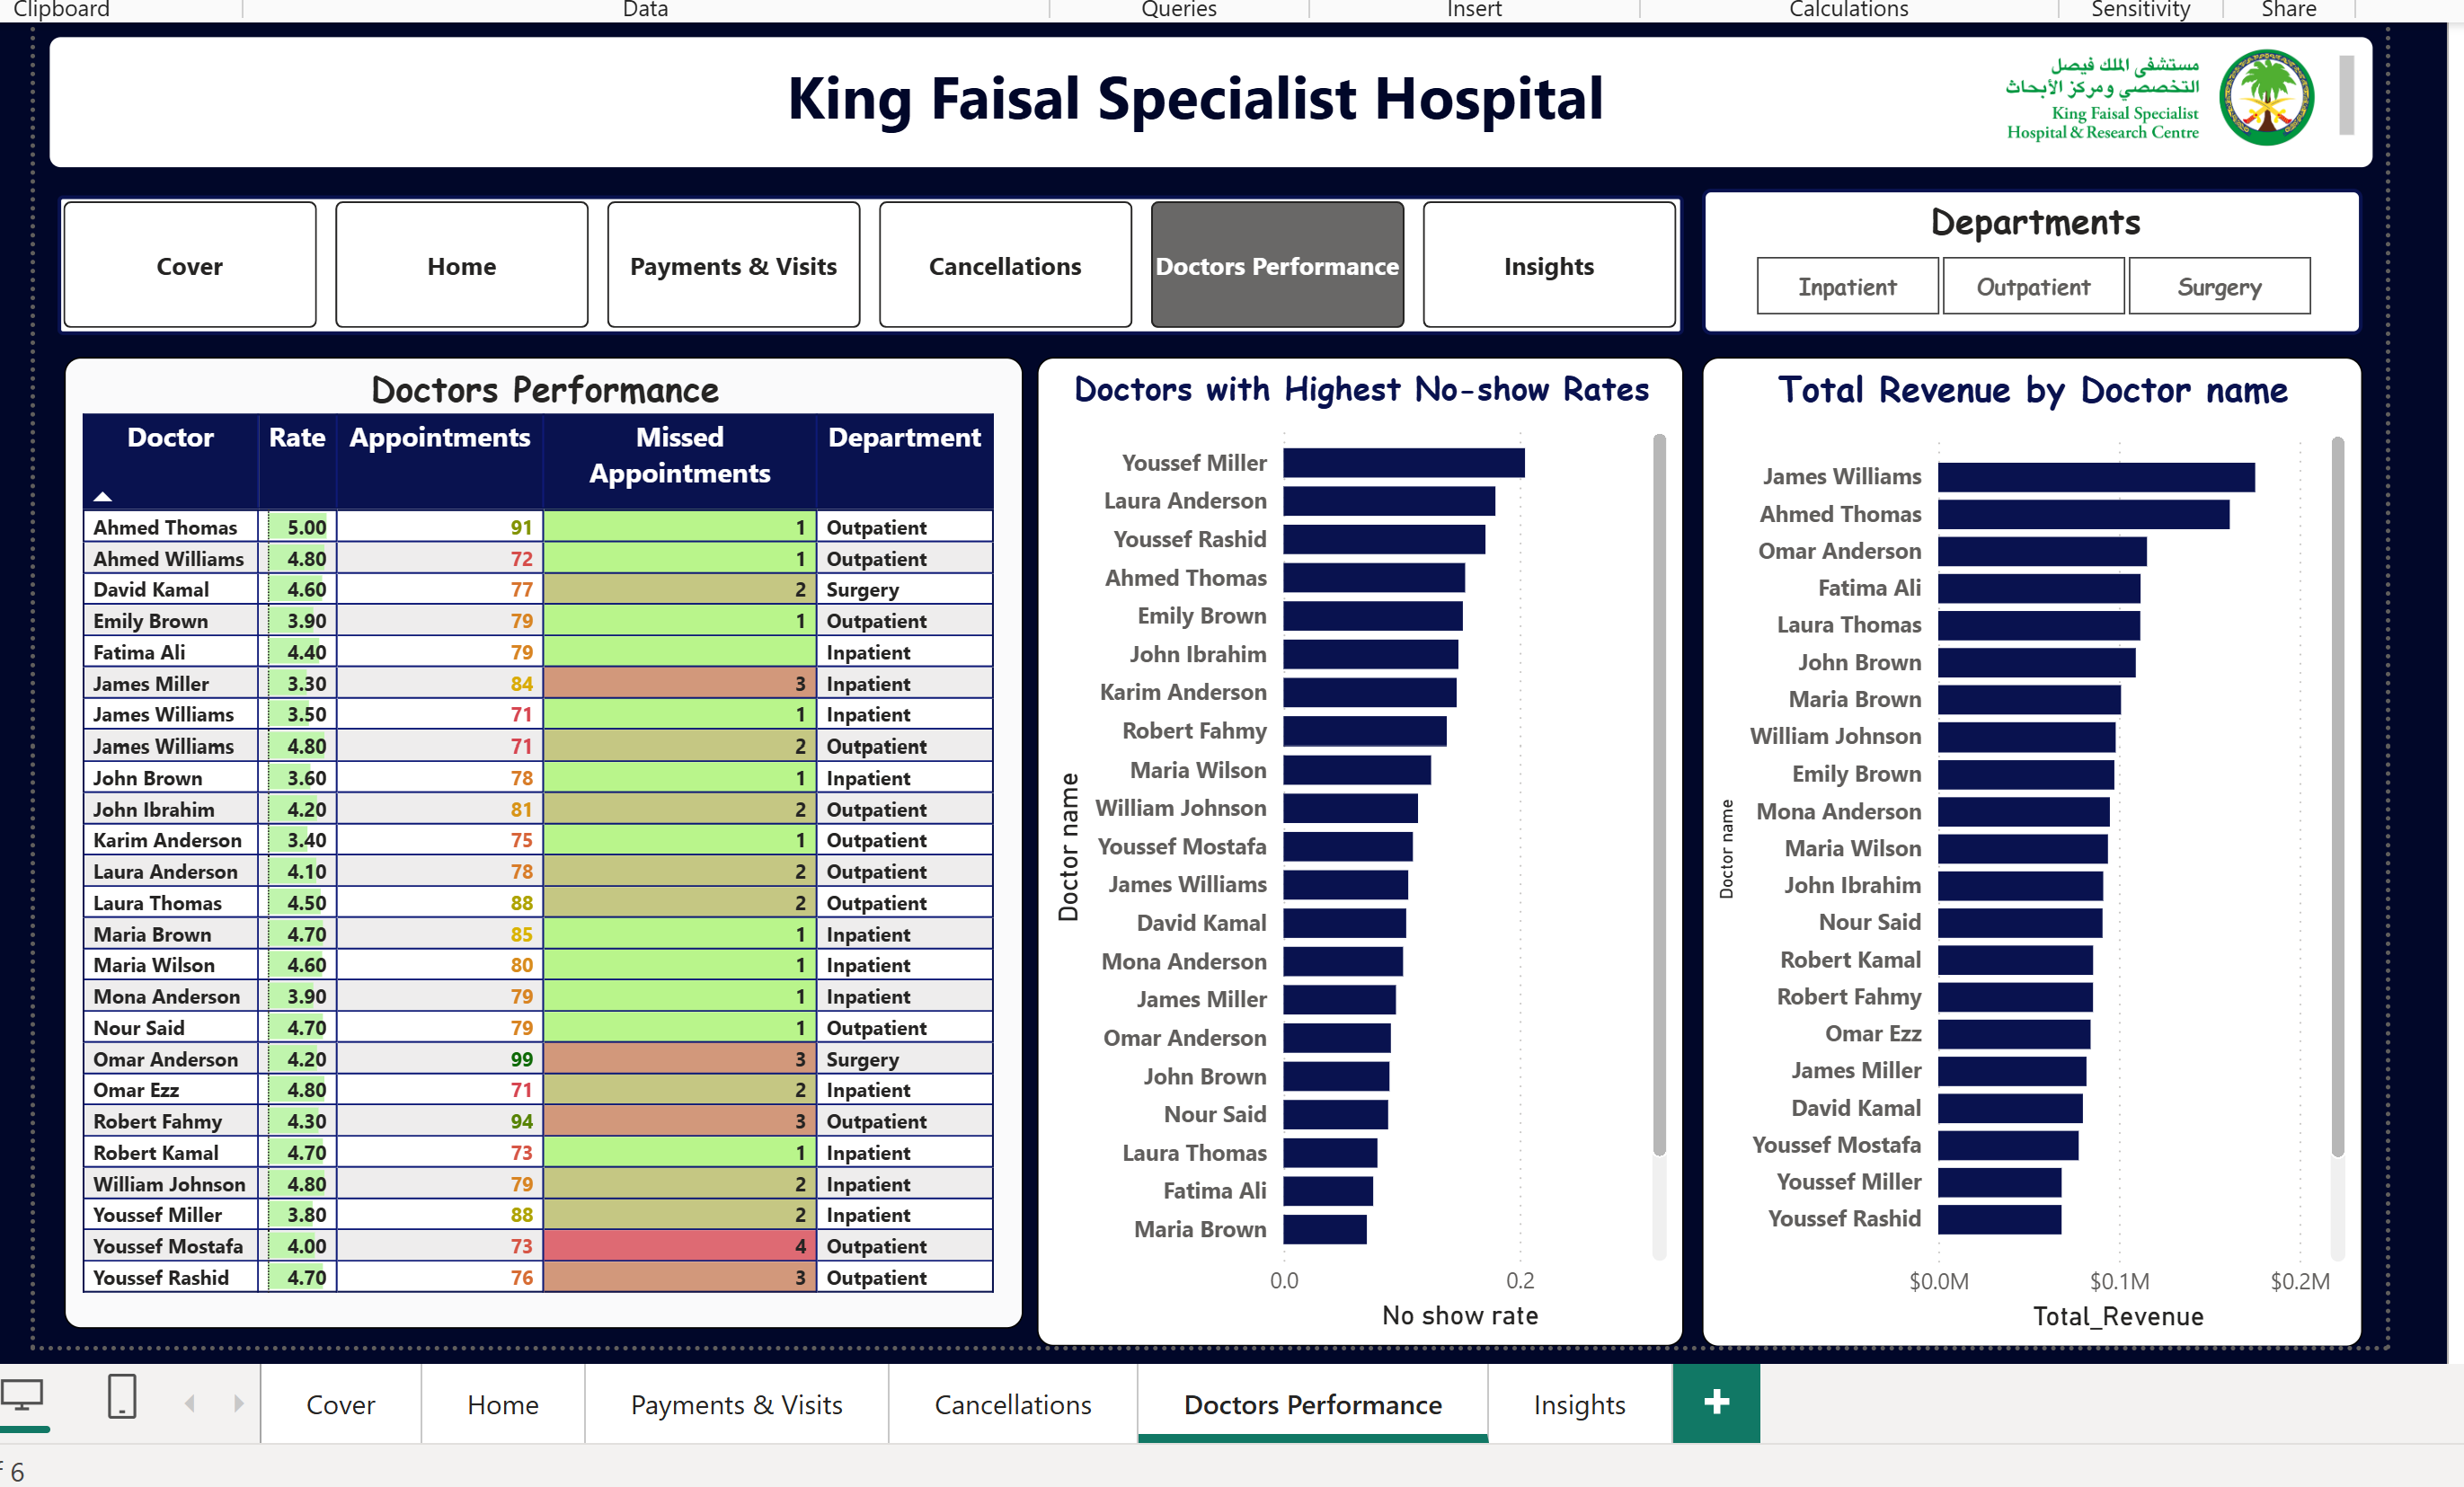

Layout of this report page (visuals, bound fields, positions):
{"tool":"powerbi","page":{"name":"Doctors Performance","canvas":[1280,720],"ordinal":2},"visuals":[{"type":"textbox","box":[0,0,1280,86.2],"z":0},{"type":"image","box":[1046.2,10,220,63.8],"z":1000},{"type":"barChart","title":"Doctors with Highest No-show Rates","fields":{"Y":["appointments.No show rate"],"Category":["doctors.Doctor name"]},"box":[7.1,97.1,335.7,612.9],"z":2000},{"type":"actionButton","box":[1055.7,662.9,100,48.6],"z":3000},{"type":"actionButton","title":"Next","box":[1172.9,661.4,92.9,48.6],"z":4000},{"type":"tableEx","title":"Doctors Performance","fields":{"Values":["doctors.Doctor name","doctors.avg_rating","appointments.Total Appointments","appointments.Doctor Missed Rate","doctors.department"]},"box":[734.3,97.1,531.4,337.1],"z":5000},{"type":"slicer","fields":{"Values":["doctors.department"]},"box":[1048.6,447.1,217.1,208.6],"z":6000},{"type":"columnChart","title":"Total Revenue by Doctor name","fields":{"Category":["doctors.Doctor name"],"Y":["billing.Total_Revenue"]},"box":[352.9,447.1,684.3,262.9],"z":7000},{"type":"pieChart","title":"Total Revenue by Department","fields":{"Category":["treatments.department"],"Y":["billing.Total_Revenue"]},"box":[352.9,97.1,365.7,337.1],"z":8001}]}

Visuals, with their boxes on the page's 1280x720 design canvas (x1, y1, x2, y2). These are canvas units, not pixel positions in the 2464x1487 screenshot, which may show the page scaled, cropped or inside an application window:
textbox: {"x1": 0, "y1": 0, "x2": 1280, "y2": 86}
image: {"x1": 1046, "y1": 10, "x2": 1266, "y2": 74}
"Doctors with Highest No-show Rates" barChart: {"x1": 7, "y1": 97, "x2": 343, "y2": 710}
actionButton: {"x1": 1056, "y1": 663, "x2": 1156, "y2": 712}
"Next" actionButton: {"x1": 1173, "y1": 661, "x2": 1266, "y2": 710}
"Doctors Performance" tableEx: {"x1": 734, "y1": 97, "x2": 1266, "y2": 434}
slicer - doctors.department: {"x1": 1049, "y1": 447, "x2": 1266, "y2": 656}
"Total Revenue by Doctor name" columnChart: {"x1": 353, "y1": 447, "x2": 1037, "y2": 710}
"Total Revenue by Department" pieChart: {"x1": 353, "y1": 97, "x2": 719, "y2": 434}
